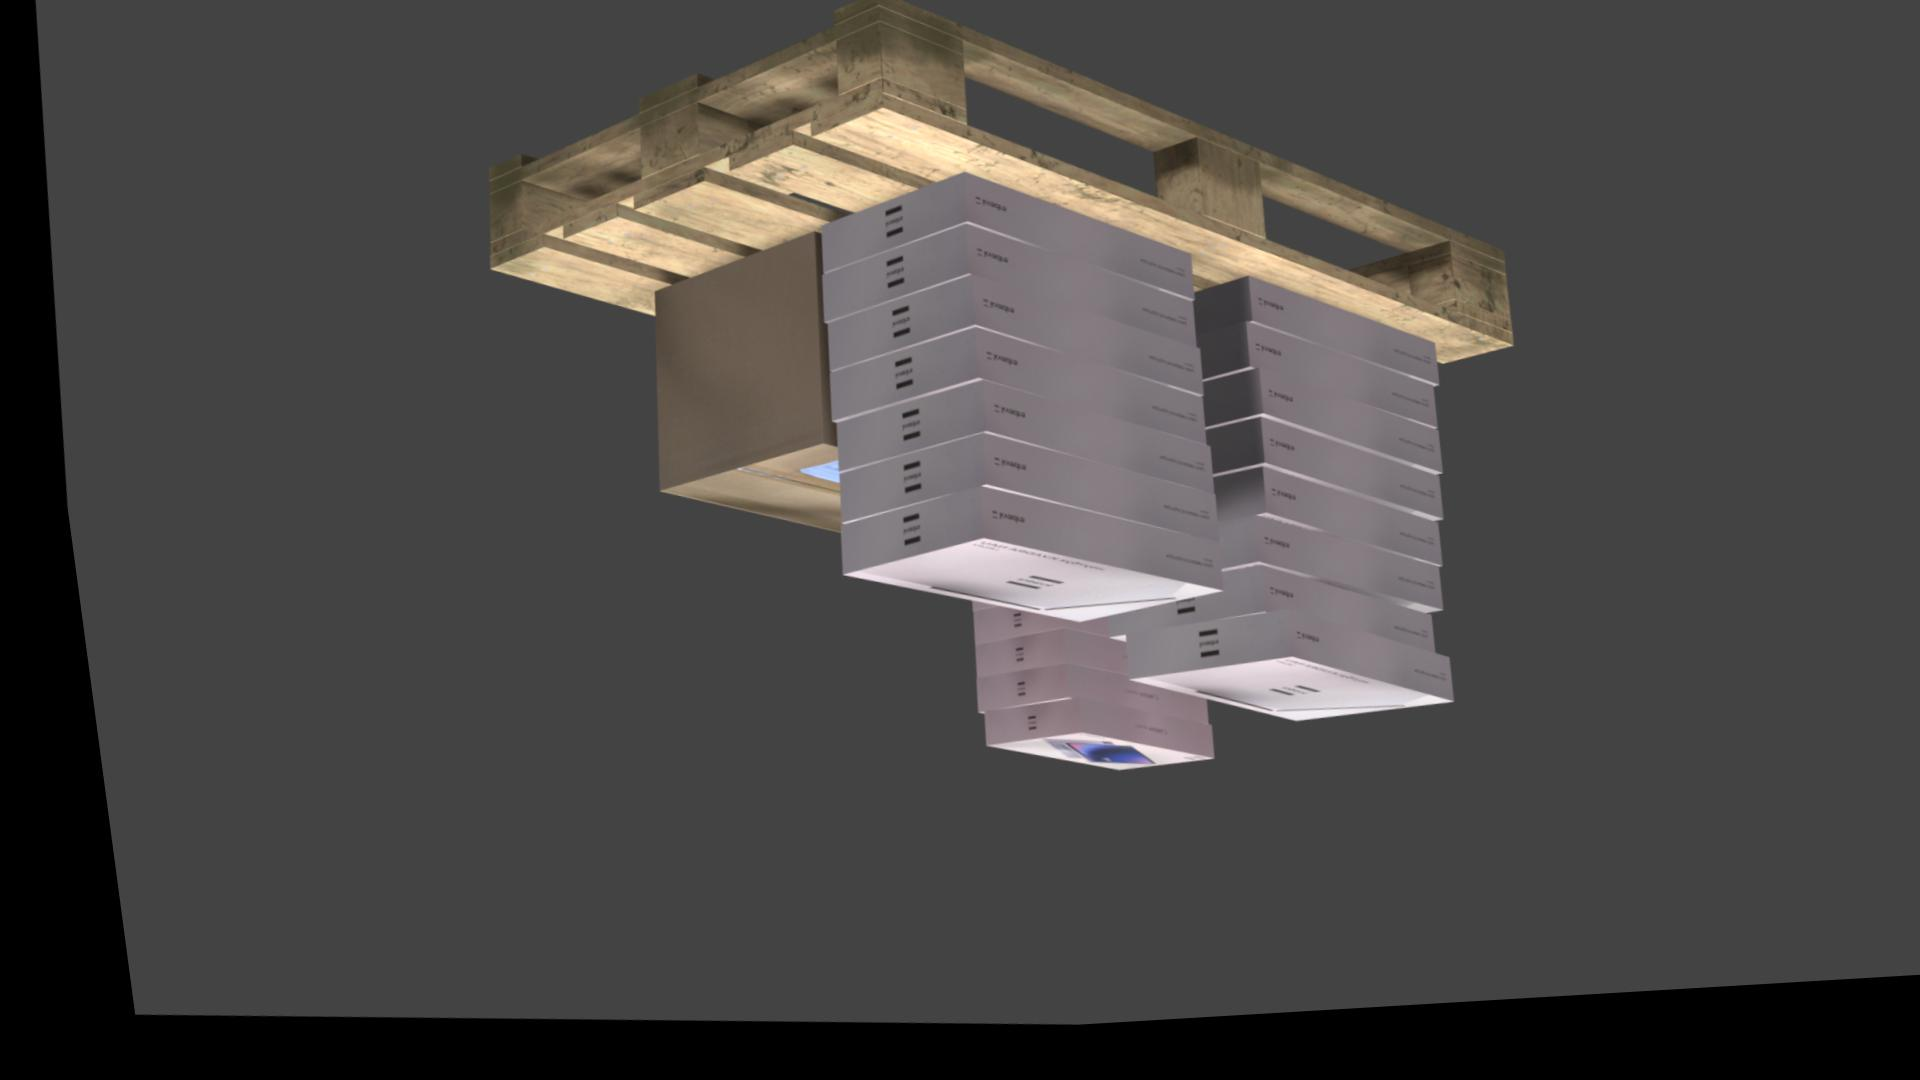group_box_left: (644, 241, 823, 497)
group_box_top: (647, 454, 824, 541)
laptop_left: (814, 183, 1184, 314), (814, 236, 1185, 361), (818, 286, 1191, 410), (818, 339, 1192, 459), (823, 392, 1197, 508), (824, 444, 1203, 556), (825, 498, 1205, 605), (1108, 624, 1432, 719), (1089, 580, 1414, 670), (1183, 290, 1425, 401), (1185, 335, 1423, 444), (1191, 382, 1427, 489), (1192, 433, 1425, 535), (1199, 481, 1424, 583), (1203, 530, 1424, 628)
laptop_top: (827, 549, 1204, 634), (1109, 671, 1429, 737)
palet: (481, 0, 1503, 380)
tablet_left: (956, 675, 1187, 737), (964, 709, 1191, 771), (956, 640, 1108, 688), (953, 617, 1089, 654)
tablet_top: (965, 745, 1191, 783)
